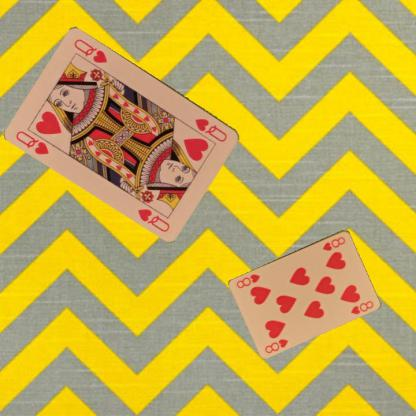8h: (262, 336, 290, 354), (320, 234, 347, 252)
Qh: (13, 128, 51, 156), (192, 116, 229, 143)
